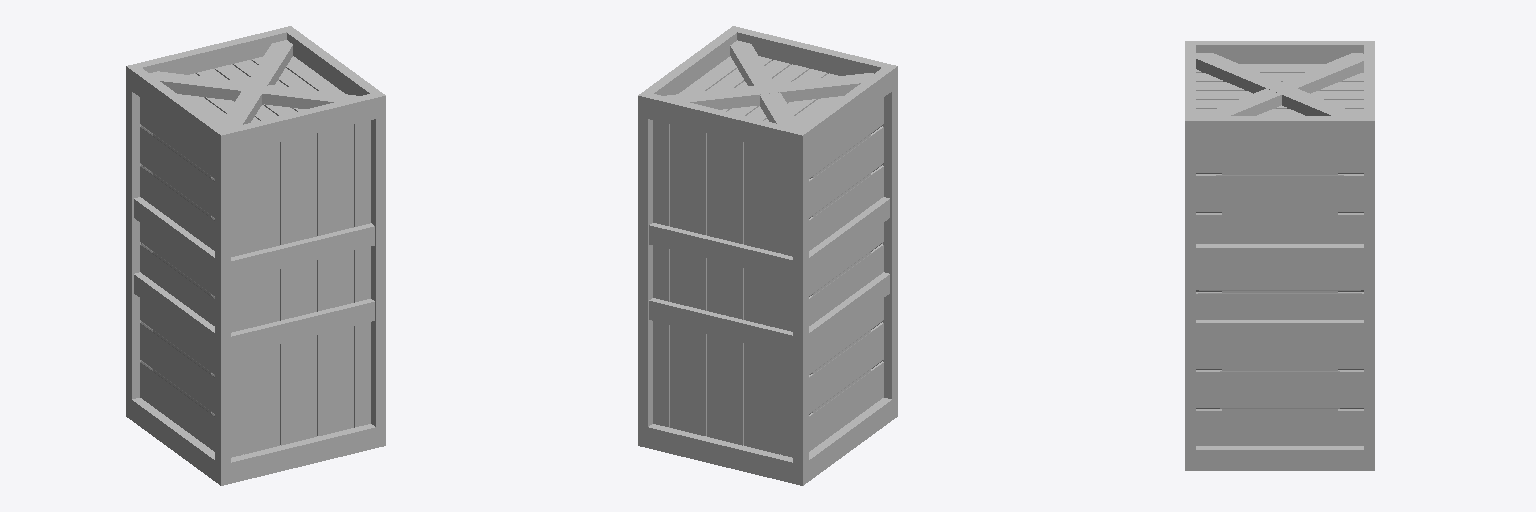
The model's file is wood.obj.
3 views of the same model, side by side, from view 1: azimuth 30°, elevation 25°; view 2: azimuth 150°, elevation 25°; view 3: azimuth 270°, elevation 25° (orthographic).
Parts seen in each view (by area): view 1: Cube.001; view 2: Cube.001; view 3: Cube.001.
Part boxes in pixels (bbox=[...]): Cube.001: bbox=[126, 26, 385, 485]; Cube.001: bbox=[638, 26, 897, 485]; Cube.001: bbox=[1185, 41, 1374, 470].
Bounding box in the file's own units: 1.16 × 2.36 × 1.16.